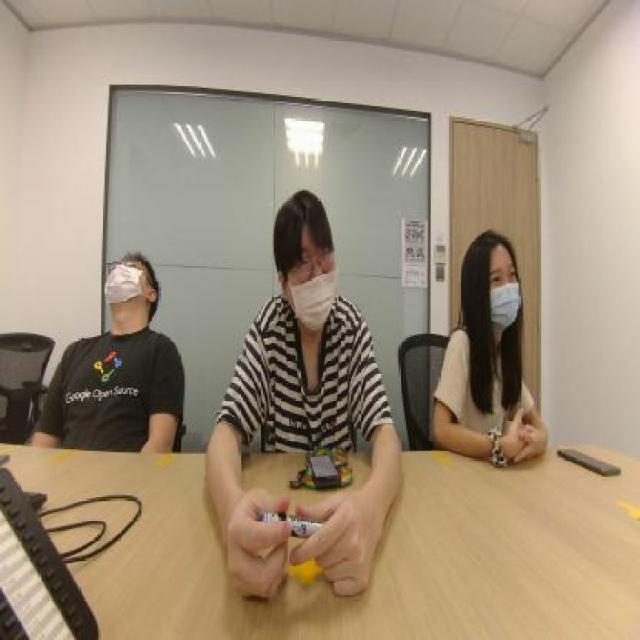Person: (15, 169, 183, 457), (234, 134, 384, 440), (426, 137, 545, 449)
